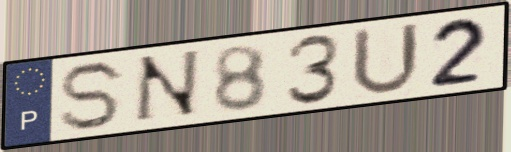2: (424, 13, 494, 93)
3: (283, 32, 343, 108)
8: (210, 42, 270, 113)
N: (129, 47, 204, 127)
S: (57, 59, 130, 134)
U: (348, 20, 424, 99)
